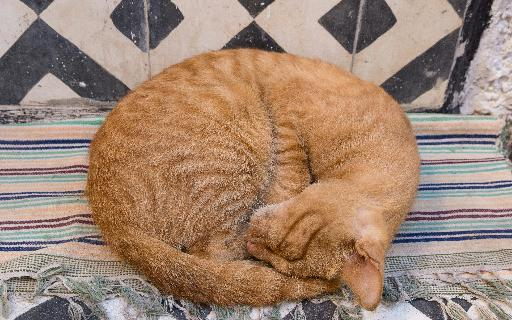cat_sleeping: (83, 49, 420, 310)
